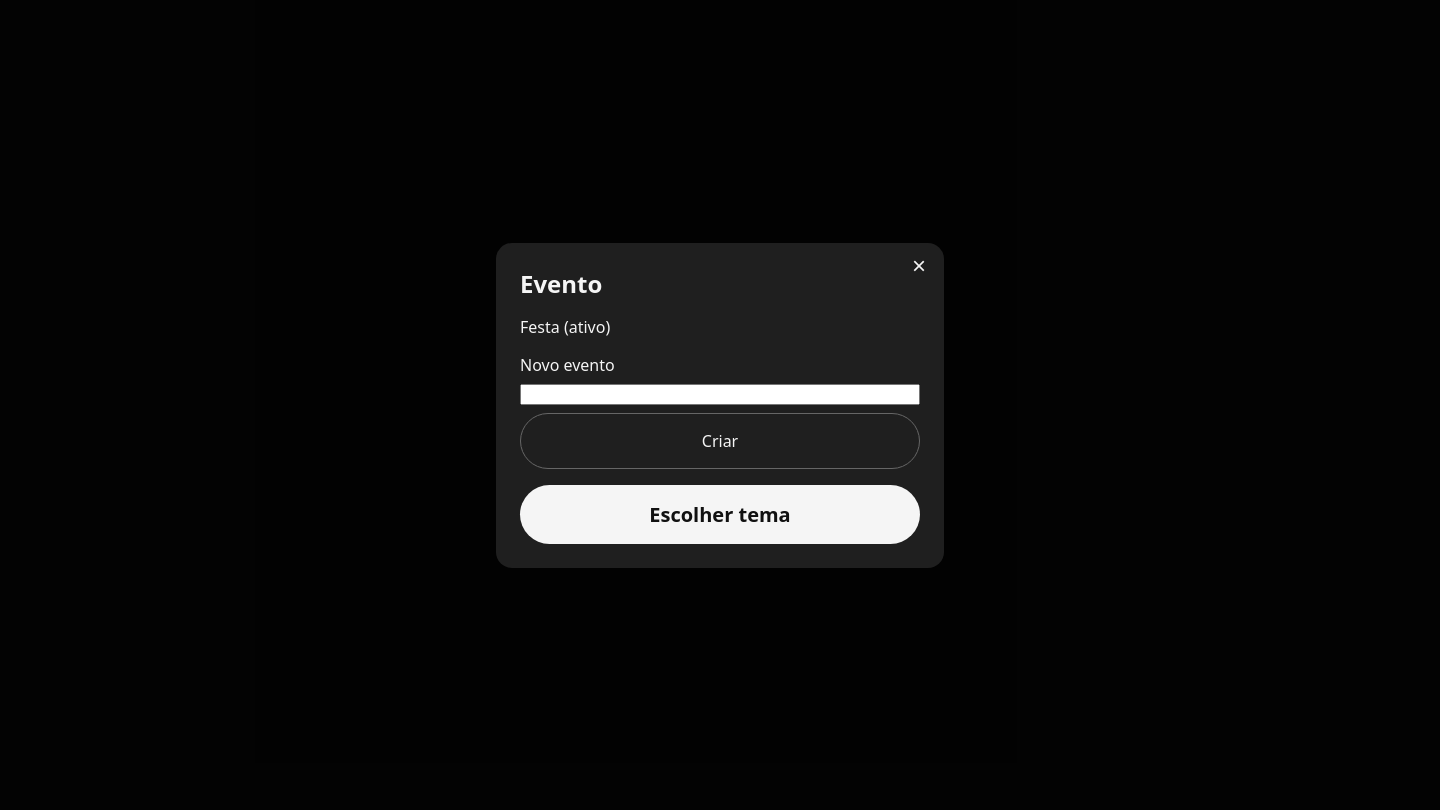
Test: OperatorOverlay › moves to theme picker after Escolher tema
The width and height of the screenshot is (1440, 810).
What coordinates should you click on to do the following:
click the button "Escolher tema"
I would click on:
 (720, 514)
Its box is x1=520 y1=484 x2=920 y2=544.
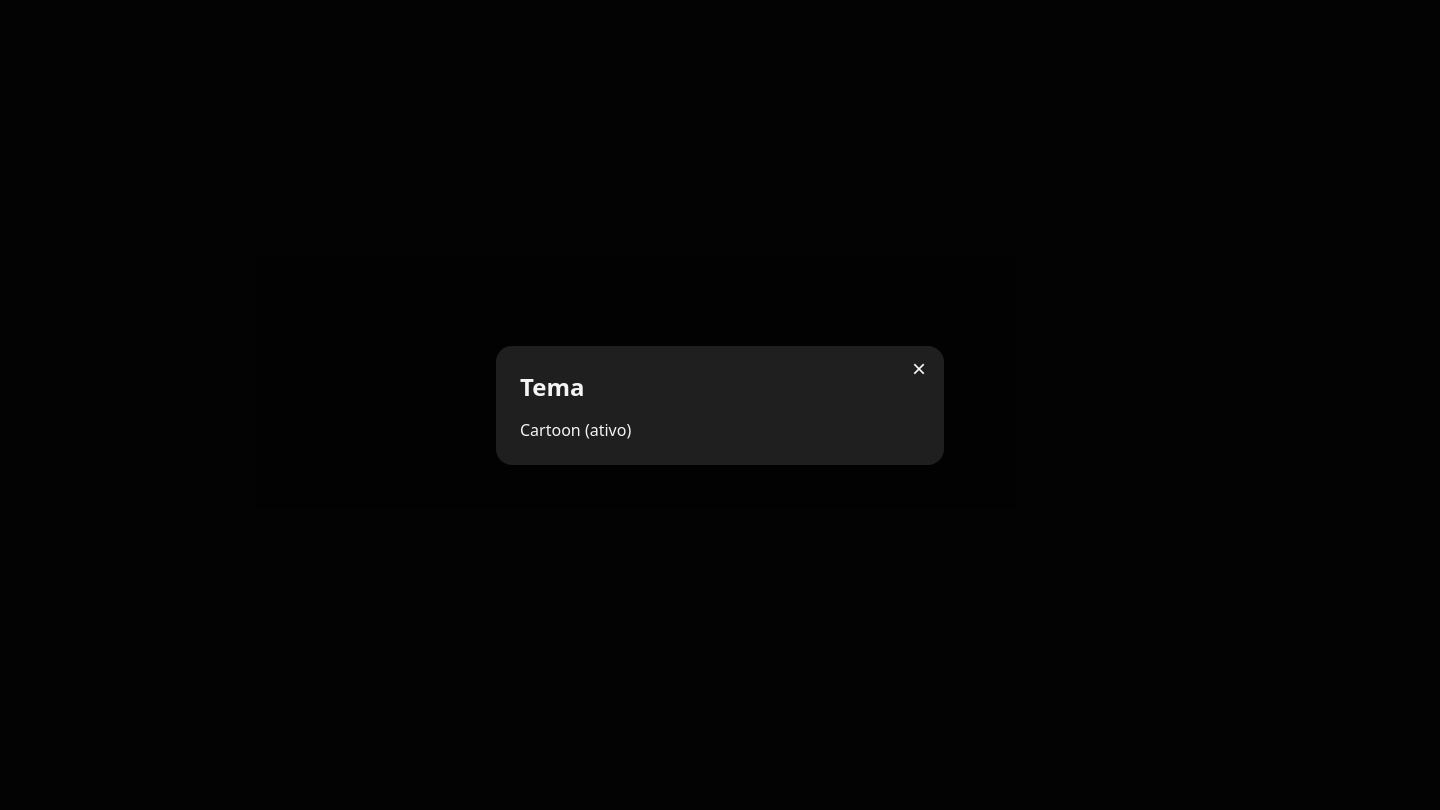
Expected: the heading "Tema" is shown, x1=520 y1=370 x2=584 y2=402
Expected: the text "Cartoon (ativo)" is shown, x1=520 y1=418 x2=631 y2=440
